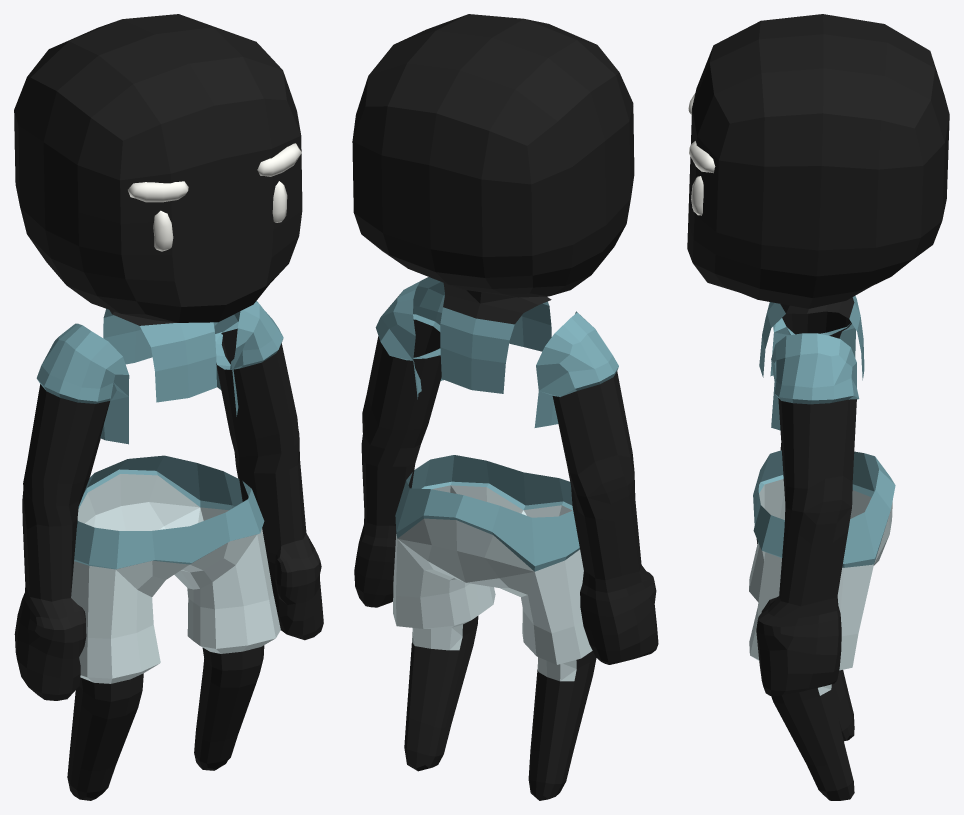
Rendered from clinical-patient.glb.
3 renders of one model, left to right at view 1: azimuth 30°, elevation 25°; view 2: azimuth 150°, elevation 25°; view 3: azimuth 270°, elevation 25°, orthographic. The views are drawn at different scales.
Parts seen in each view (by area): view 1: Body.001; view 2: Body.001; view 3: Body.001.
Part boxes in pixels (x1,y1,x2,y2): Body.001: (14,14,323,800); Body.001: (352,14,658,800); Body.001: (687,14,949,800).
Size of the model in its own units: 1.27 by 3.1 by 1.
